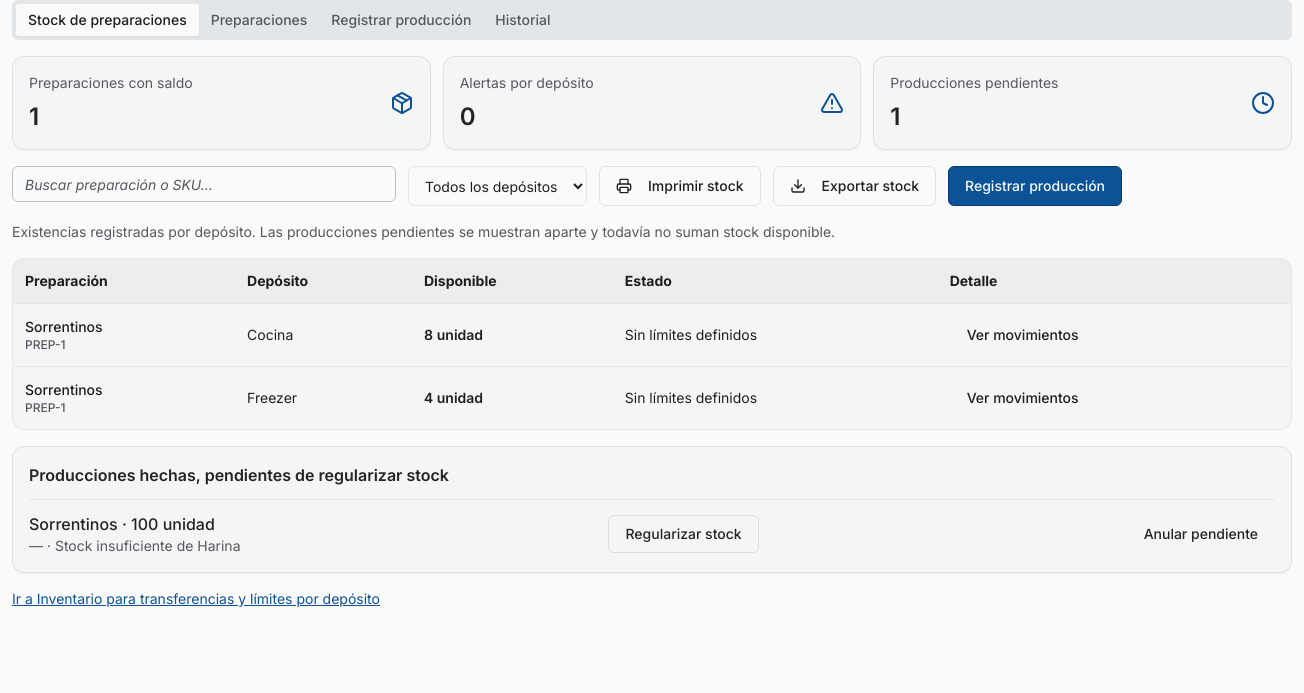
it: ofrece los depósitos con el formato real de la API en producción
Click the tab "Registrar producción" at (401, 20), box [319, 4, 483, 36]
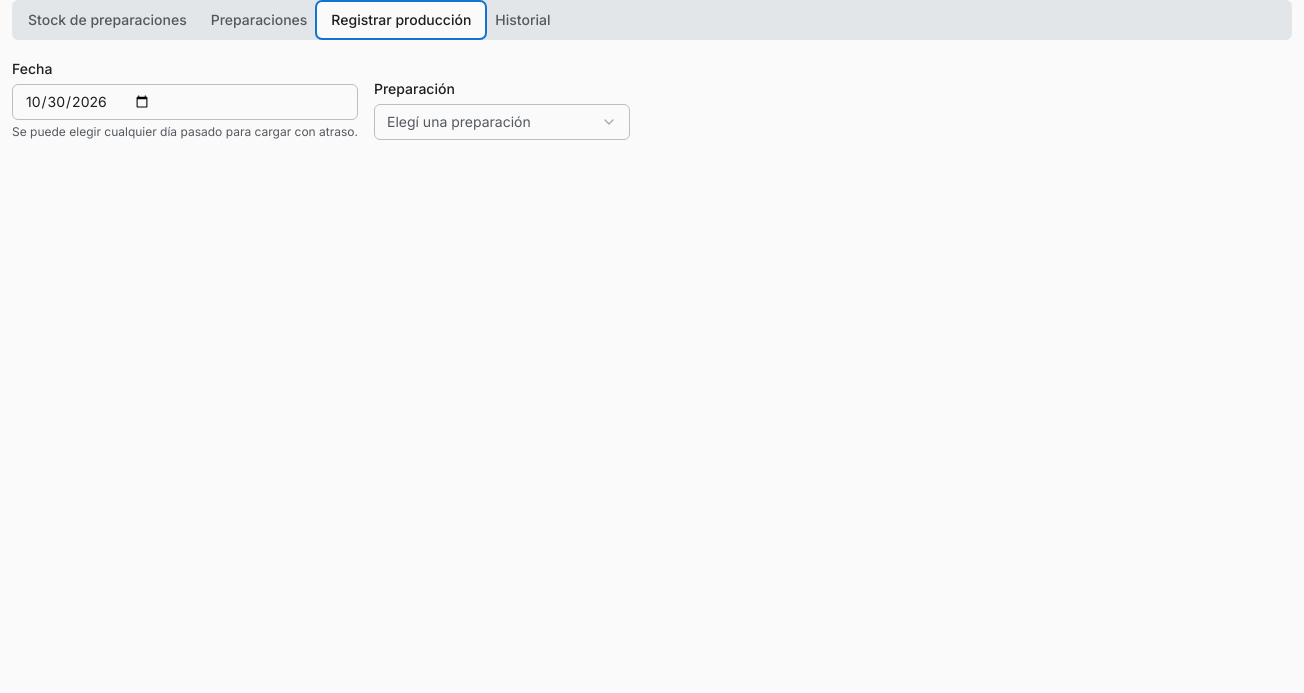
Click the dropdown with test id "select-production-formula" at (502, 122), box [374, 104, 630, 140]
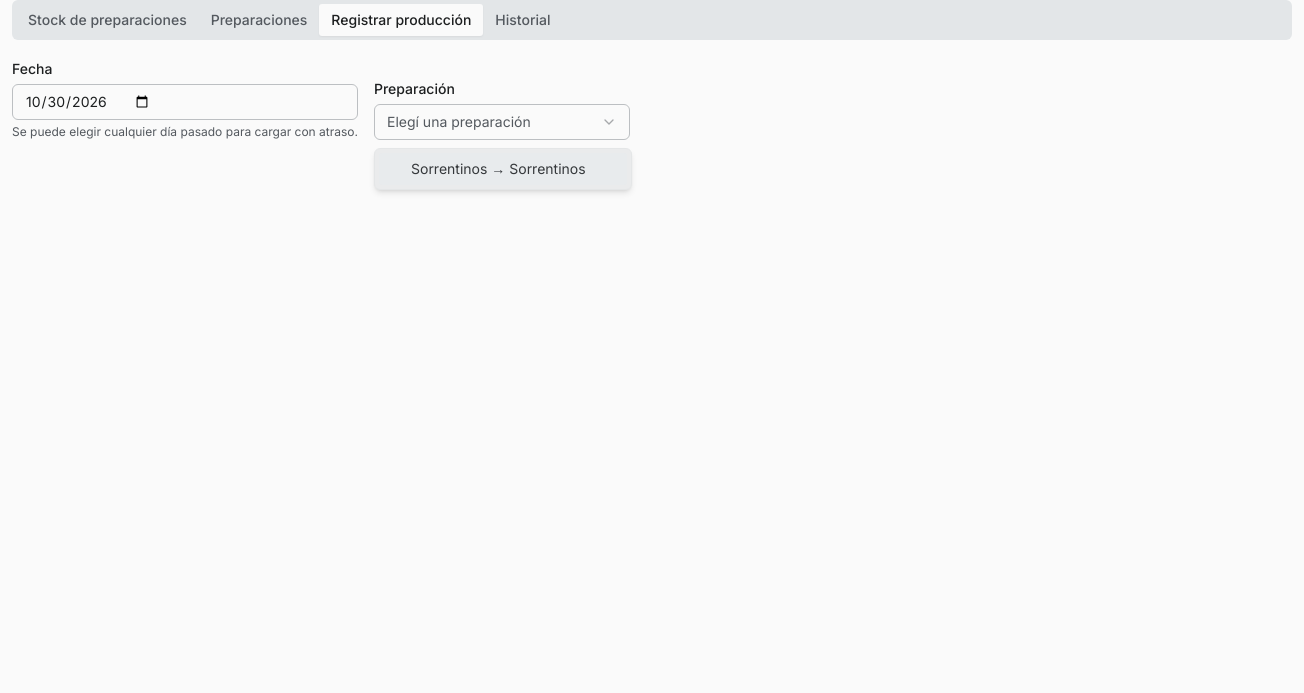
Click the option "Sorrentinos → Sorrentinos" at (503, 169), box [379, 153, 627, 185]
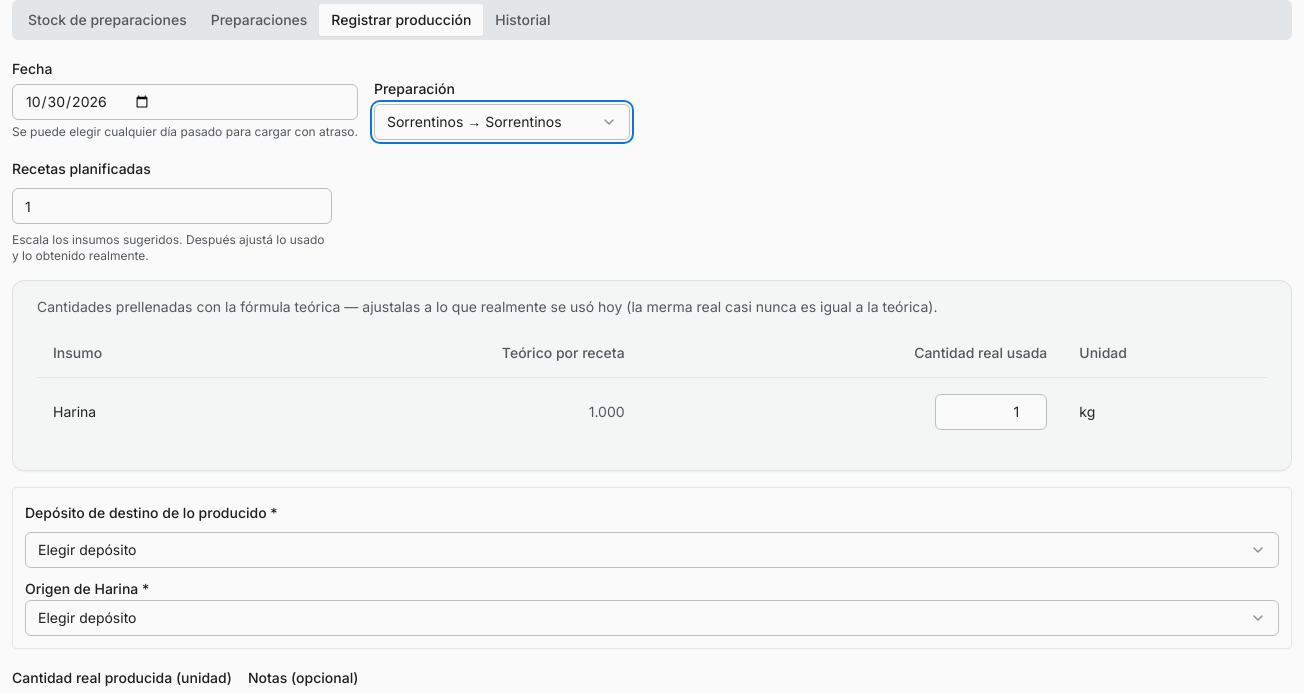
Click the 1st dropdown labelled "Elegir depósito" at (87, 549), box [25, 532, 1279, 568]
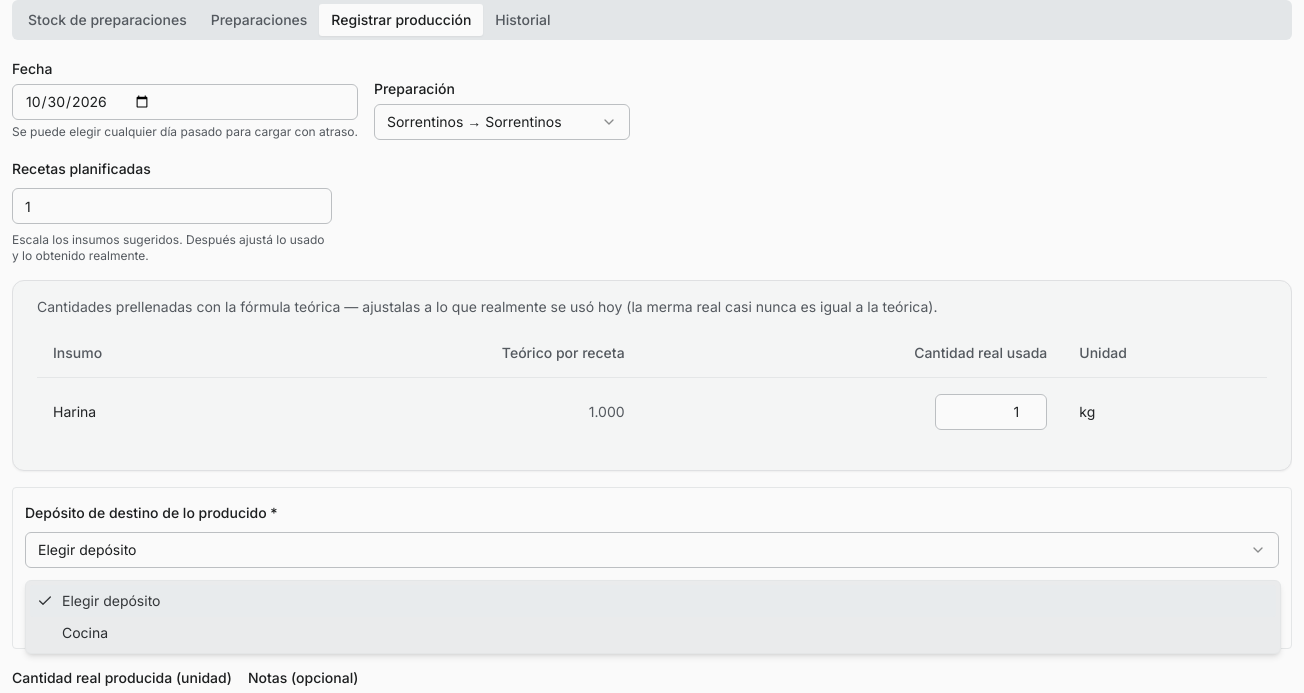
Result: the option "Cocina" is shown at [62, 624, 108, 641]
